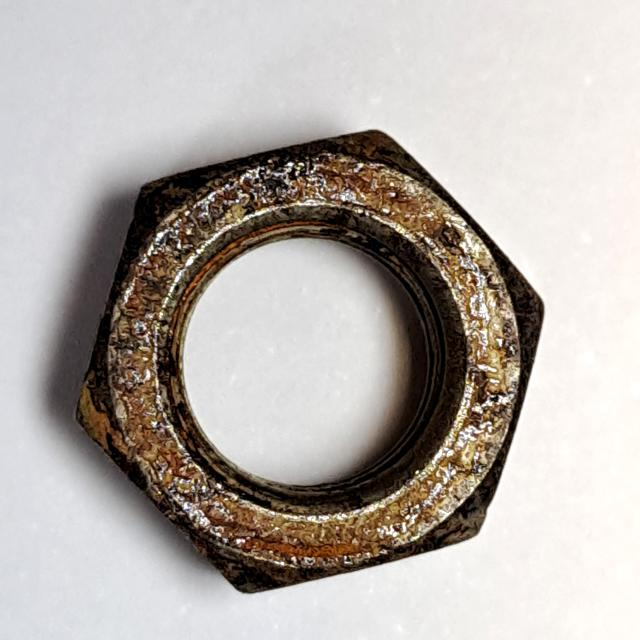Rust: (66, 120, 556, 608)
